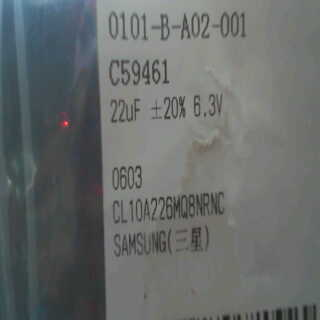22uF: (107, 96, 144, 125)
